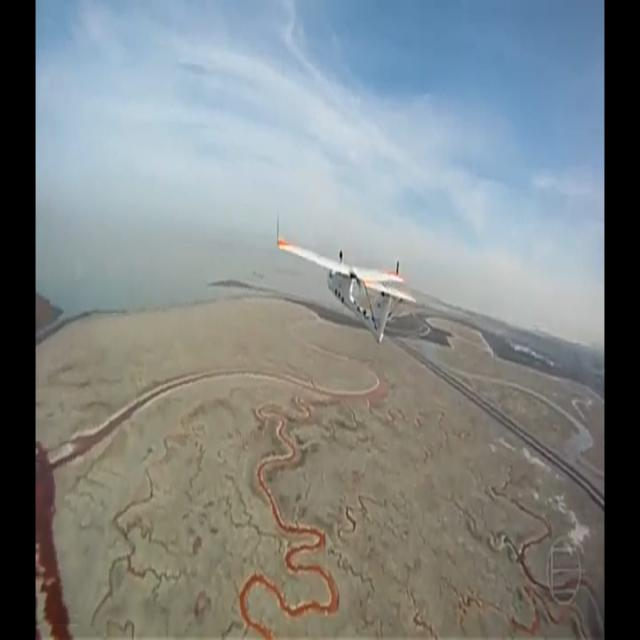iha: (279, 218, 413, 346)
